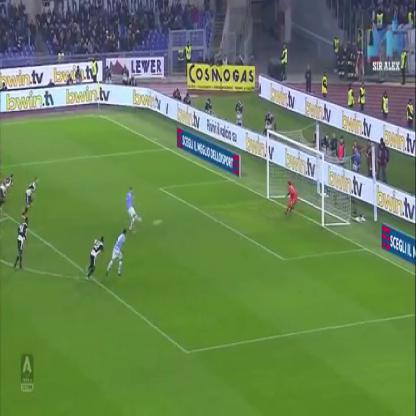penalty kick: (101, 122, 342, 247)
